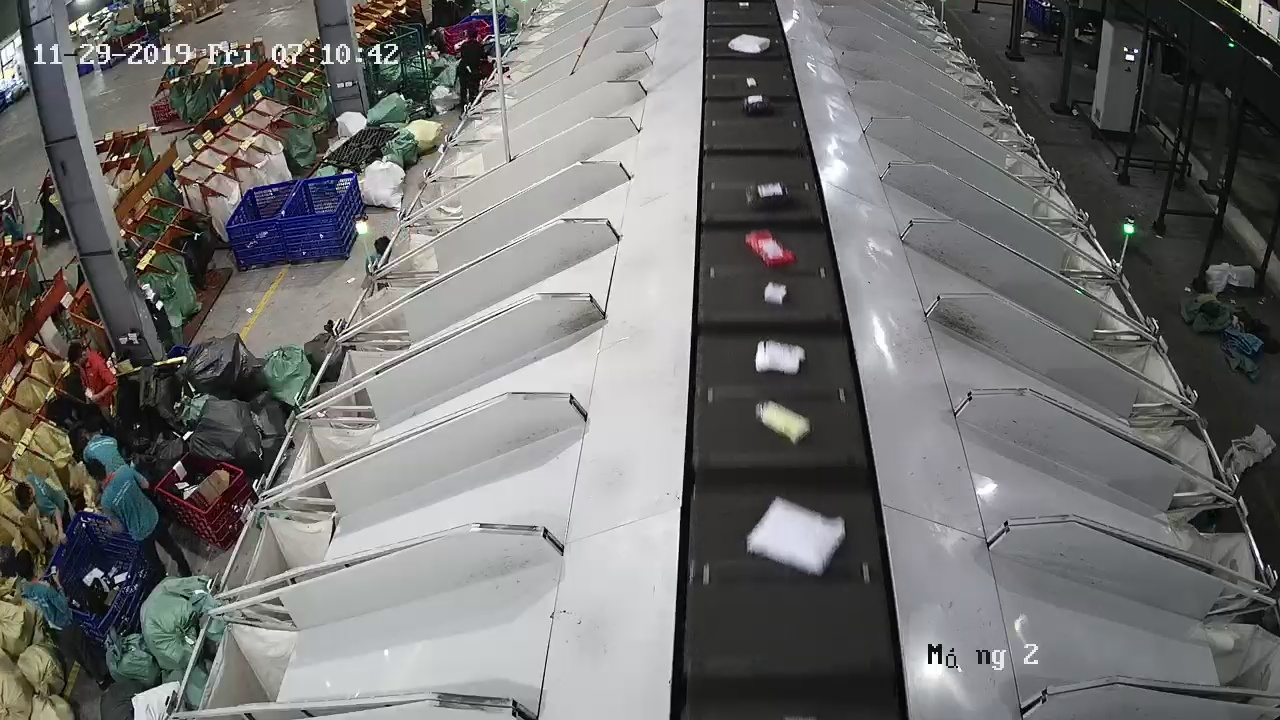parcel: (747, 499, 846, 576), (756, 401, 809, 444), (744, 228, 797, 269), (754, 339, 805, 374), (744, 181, 791, 209), (763, 281, 788, 305)
